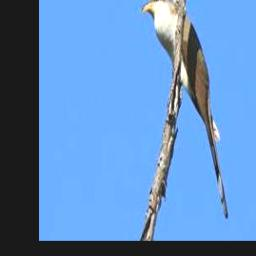Cuckoo: (141, 0, 228, 219)
